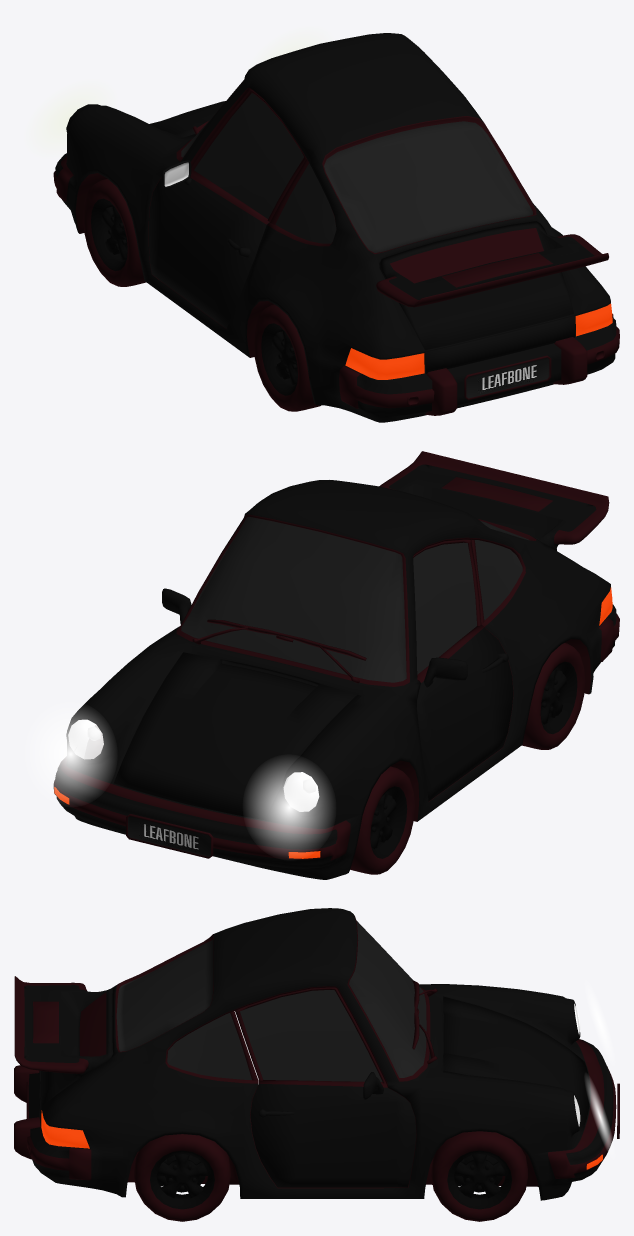
Rendered from car_01e.glb.
The picture shows the model from 3 angles, top to bottom: view 1: azimuth 30°, elevation 25°; view 2: azimuth 150°, elevation 25°; view 3: azimuth 270°, elevation 25°; orthographic projection. The views are drawn at different scales.
Parts seen in each view (by area): view 1: Object_5; view 2: Object_5; view 3: Object_5.
Part boxes in pixels (<box>): Object_5: <box>30,30,619,422</box>; Object_5: <box>30,451,619,879</box>; Object_5: <box>14,908,619,1221</box>.
Size of the model in its own units: 2.16 by 1.75 by 4.15.
9 materials, 2 textured.
